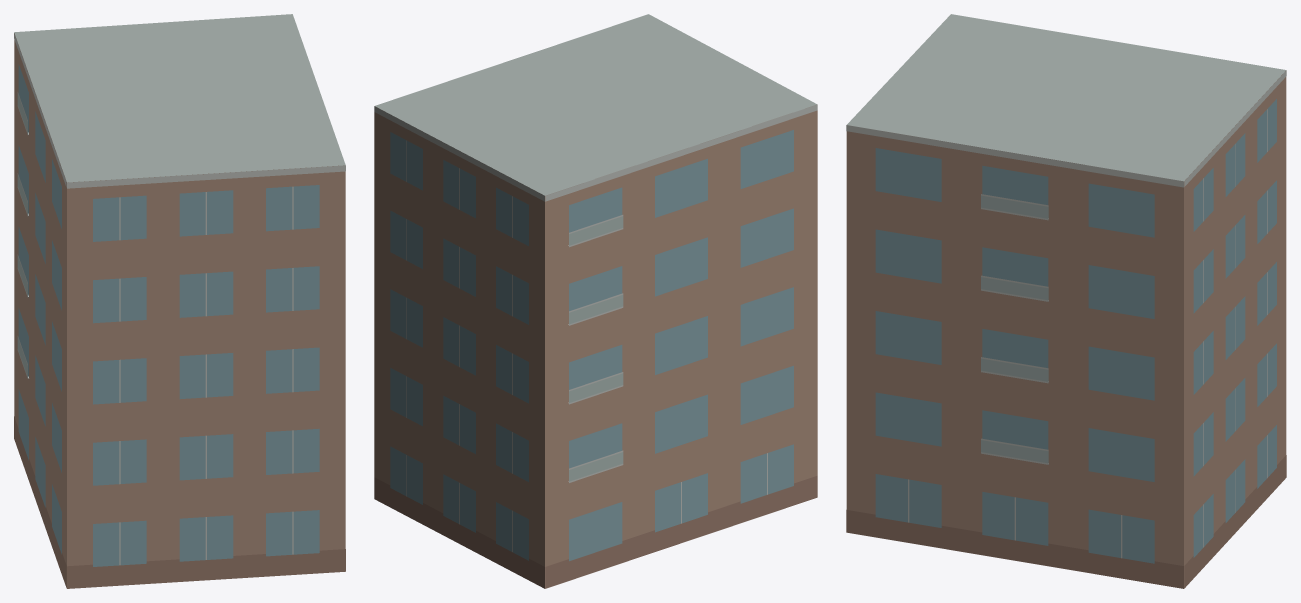
Rendered from survey-upis-32987579.glb.
3 renders of one model, left to right at view 1: azimuth 30°, elevation 25°; view 2: azimuth 150°, elevation 25°; view 3: azimuth 270°, elevation 25°, orthographic. The views are drawn at different scales.
Parts seen in each view (by area): view 1: survey-upis-32987579.tmp; view 2: survey-upis-32987579.tmp; view 3: survey-upis-32987579.tmp.
Part boxes in pixels (x1=…): survey-upis-32987579.tmp: x1=14, y1=14, x2=345, y2=588; survey-upis-32987579.tmp: x1=374, y1=14, x2=817, y2=588; survey-upis-32987579.tmp: x1=846, y1=14, x2=1286, y2=588.
Size of the model in its own units: 14.14 by 16.05 by 15.71.
